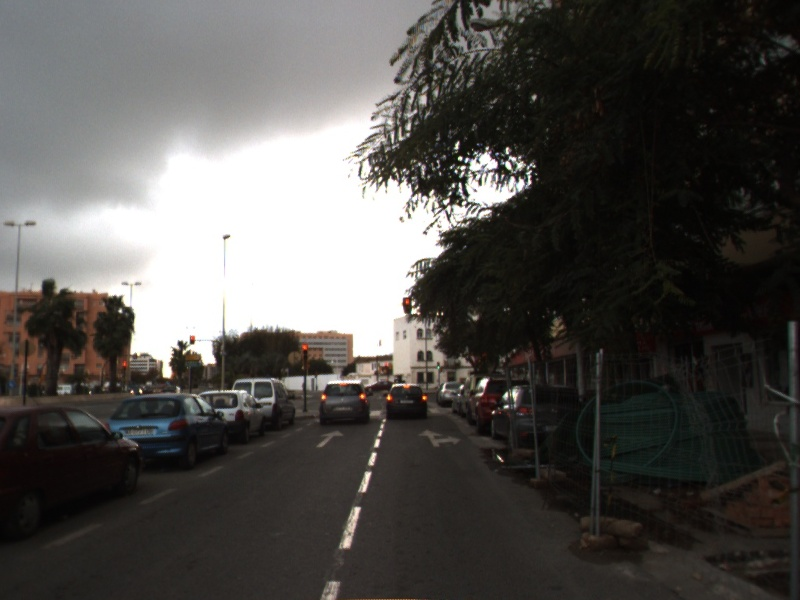STRAIGHT: (315, 429, 345, 448)
STRAIGHT_RIGHT: (416, 427, 462, 448)
